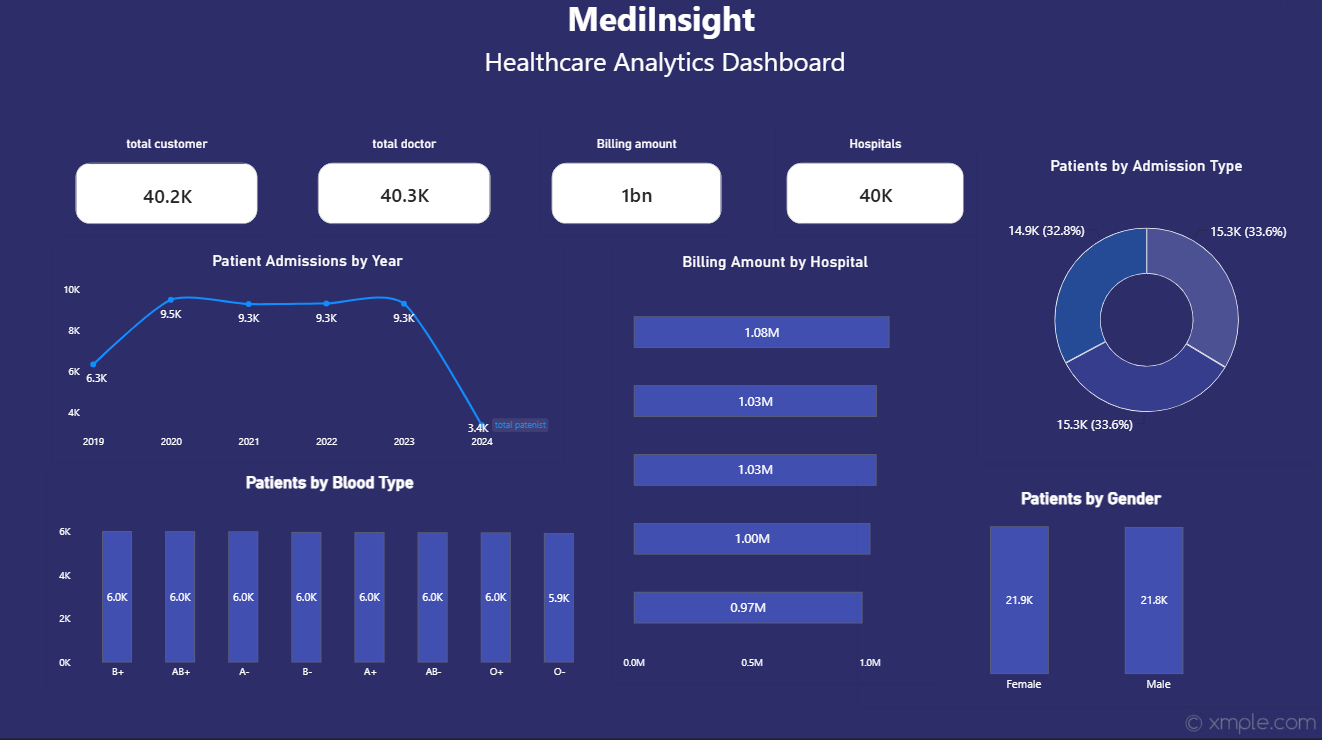

The dashboard page shown, as its layout file describes it:
{"tool":"powerbi","page":{"name":"Page 1","canvas":[1920,1080],"ordinal":0},"visuals":[{"type":"cardVisual","title":"total customer","fields":{"Data":["Count(healthcare_dataset.Name)"]},"box":[96.7,189.4,296.8,157.4],"z":0},{"type":"cardVisual","title":"total doctor","fields":{"Data":["Count(healthcare_dataset.Doctor)"]},"box":[446.2,189.4,282.3,157.4],"z":1000},{"type":"cardVisual","title":"Billing amount","fields":{"Data":["healthcare_dataset.Billing_amount"]},"box":[786.3,189.4,278.7,157.4],"z":2000},{"type":"cardVisual","title":"Hospitals","fields":{"Data":["healthcare_dataset.Total Hospital"]},"box":[1125.5,189.4,289.5,157.4],"z":3000},{"type":"barChart","title":"Billing Amount by Hospital","fields":{"Category":["healthcare_dataset.Hospital"],"Y":["healthcare_dataset.Billing_amount"]},"box":[889.2,358.1,473.4,638.1],"z":4000},{"type":"donutChart","title":"Patients by Admission Type","fields":{"Category":["healthcare_dataset.Admission Type"],"Y":["healthcare_dataset.total patenist"]},"box":[1416.1,218.2,491.9,459],"z":5000},{"type":"clusteredColumnChart","title":"Patients by Blood Type","fields":{"Category":["healthcare_dataset.Blood Type"],"Y":["healthcare_dataset.total patenist"]},"box":[72,677.2,816.2,333],"z":6000},{"type":"lineChart","title":"Patient Admissions by Year","fields":{"Category":["healthcare_dataset.Date of Admission.Variation.Date Hierarchy.Year","healthcare_dataset.Date of Admission.Variation.Date Hierarchy.Quarter","healthcare_dataset.Date of Admission.Variation.Date Hierarchy.Month","healthcare_dataset.Date of Admission.Variation.Date Hierarchy.Day"],"Y":["healthcare_dataset.total patenist"]},"box":[78.2,356.1,741,321.1],"z":7000},{"type":"clusteredColumnChart","title":"Patients by Gender","fields":{"Category":["healthcare_dataset.Gender"],"Y":["healthcare_dataset.total patenist"]},"box":[1245.3,699.8,675.1,329.3],"z":8000},{"type":"textbox","box":[121,61.5,297,157],"z":9000},{"type":"textbox","box":[354,0,1210.3,131.7],"z":10000}]}

Visuals, with their boxes in screenshot pixels (x1, y1, x2, y2), scaled from the page's 1920x1080 canvas onto the 1322x740 screenshot:
"total customer" cardVisual: bbox=(67, 130, 271, 238)
"total doctor" cardVisual: bbox=(307, 130, 502, 238)
"Billing amount" cardVisual: bbox=(541, 130, 733, 238)
"Hospitals" cardVisual: bbox=(775, 130, 974, 238)
"Billing Amount by Hospital" barChart: bbox=(612, 245, 938, 683)
"Patients by Admission Type" donutChart: bbox=(975, 150, 1314, 464)
"Patients by Blood Type" clusteredColumnChart: bbox=(50, 464, 612, 692)
"Patient Admissions by Year" lineChart: bbox=(54, 244, 564, 464)
"Patients by Gender" clusteredColumnChart: bbox=(857, 479, 1321, 705)
textbox: bbox=(83, 42, 288, 150)
textbox: bbox=(244, 0, 1077, 90)
